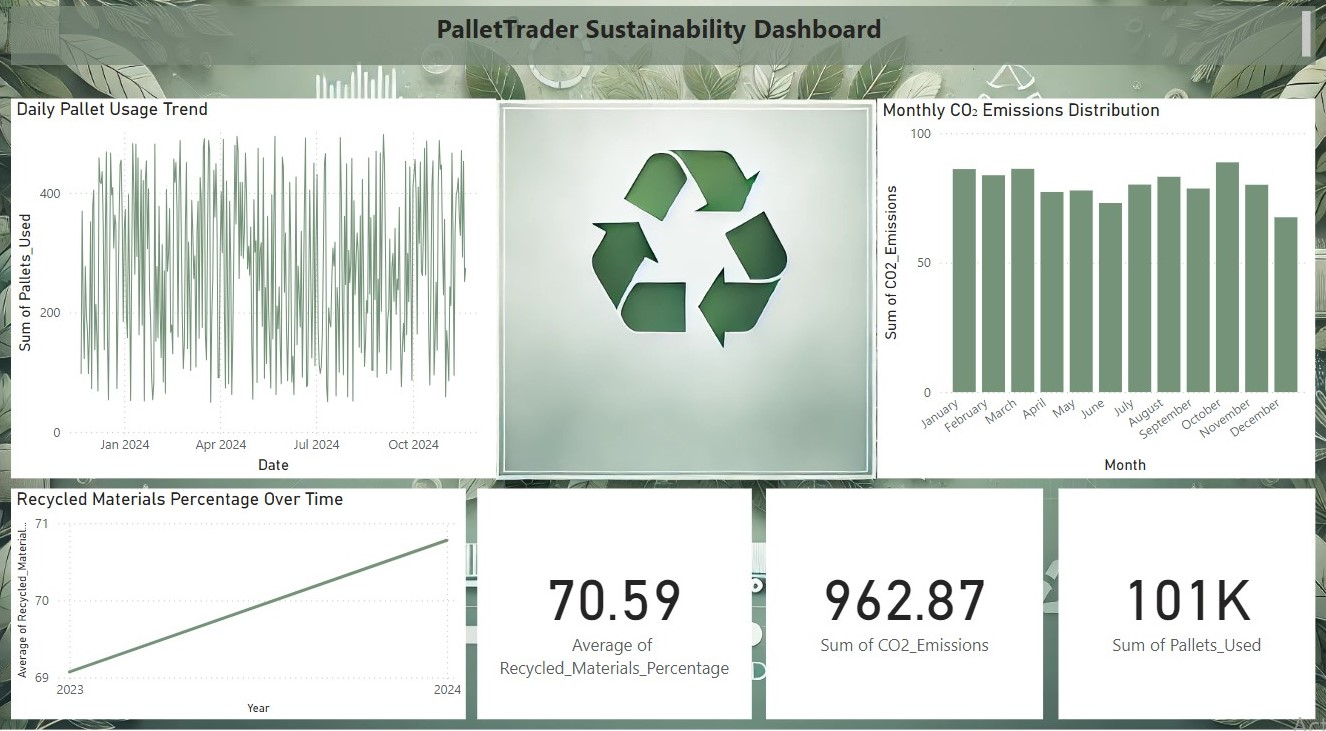

The page's visual inventory and layout, read from the dashboard file:
{"tool":"powerbi","page":{"name":"dashboard","canvas":[1280,720],"ordinal":0},"visuals":[{"type":"image","box":[8.2,16.5,1270.7,703.9],"z":0},{"type":"card","fields":{"Values":["Sum(sustainability_data.Pallets_Used)"]},"box":[1018.2,487.1,244.3,219.6],"z":1000},{"type":"card","fields":{"Values":["Avg(sustainability_data.Recycled_Materials_Percentage)"]},"box":[466.6,487.1,260.7,219.6],"z":2000},{"type":"card","fields":{"Values":["Sum(sustainability_data.CO2_Emissions)"]},"box":[741,487.1,263.5,219.6],"z":3000},{"type":"lineChart","title":"Daily Pallet Usage Trend","fields":{"Y":["Sum(sustainability_data.Pallets_Used)"],"Category":["sustainability_data.Date"]},"box":[23.3,116.6,461.1,360.9],"z":4000},{"type":"columnChart","title":"Monthly CO₂ Emissions Distribution","fields":{"Category":["sustainability_data.Date.Variation.Date Hierarchy.Month"],"Y":["Sum(sustainability_data.CO2_Emissions)"]},"box":[846.7,116.6,415.8,360.9],"z":5000},{"type":"lineChart","title":"Recycled Materials Percentage Over Time","fields":{"Y":["Avg(sustainability_data.Recycled_Materials_Percentage)"],"Category":["sustainability_data.Date.Variation.Date Hierarchy.Year","sustainability_data.Date.Variation.Date Hierarchy.Quarter","sustainability_data.Date.Variation.Date Hierarchy.Month","sustainability_data.Date.Variation.Date Hierarchy.Day"]},"box":[23.3,487.1,432.2,219.6],"z":6000},{"type":"textbox","box":[23.3,28.8,1239.1,56.3],"z":6001}]}

Visuals, with their boxes in screenshot pixels (x1, y1, x2, y2), scaled from the page's 1280x720 canvas onto the 1326x731 screenshot:
image: box=[8, 17, 1325, 730]
card - Sum(sustainability_data.Pallets_Used): box=[1055, 495, 1308, 717]
card - Avg(sustainability_data.Recycled_Materials_Percentage): box=[483, 495, 753, 717]
card - Sum(sustainability_data.CO2_Emissions): box=[768, 495, 1041, 717]
"Daily Pallet Usage Trend" lineChart: box=[24, 118, 502, 485]
"Monthly CO₂ Emissions Distribution" columnChart: box=[877, 118, 1308, 485]
"Recycled Materials Percentage Over Time" lineChart: box=[24, 495, 472, 717]
textbox: box=[24, 29, 1308, 86]
